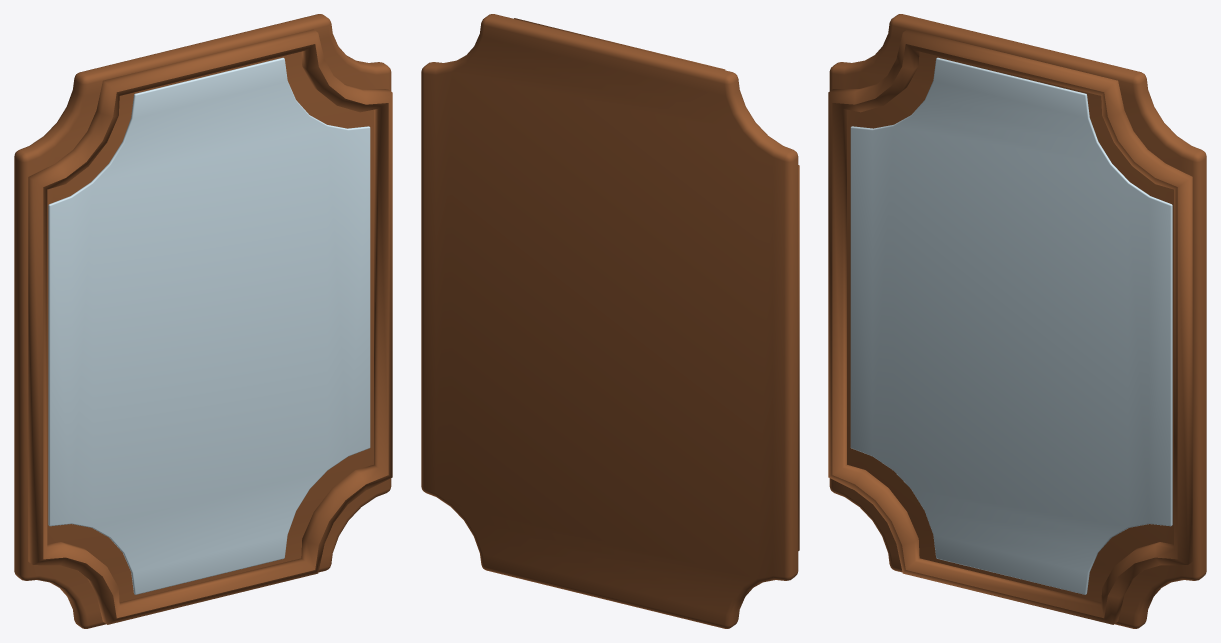
The model's file is espelho_parede_recortado.glb.
The picture shows the model from 3 angles, left to right: view 1: azimuth 30°, elevation 25°; view 2: azimuth 150°, elevation 25°; view 3: azimuth 330°, elevation 25°; orthographic projection.
Parts seen in each view (by area): view 1: espelho_parede_recortado; view 2: espelho_parede_recortado; view 3: espelho_parede_recortado.
Part boxes in pixels (left/top/right/bottom): espelho_parede_recortado: left=14, top=14, right=392, bottom=628; espelho_parede_recortado: left=421, top=14, right=799, bottom=628; espelho_parede_recortado: left=828, top=14, right=1206, bottom=628.
Bounding box in the file's own units: 0.52 × 0.74 × 0.045.
2 materials, 1 textured.
